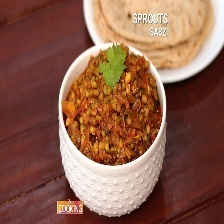sabzi: (60, 44, 162, 163)
